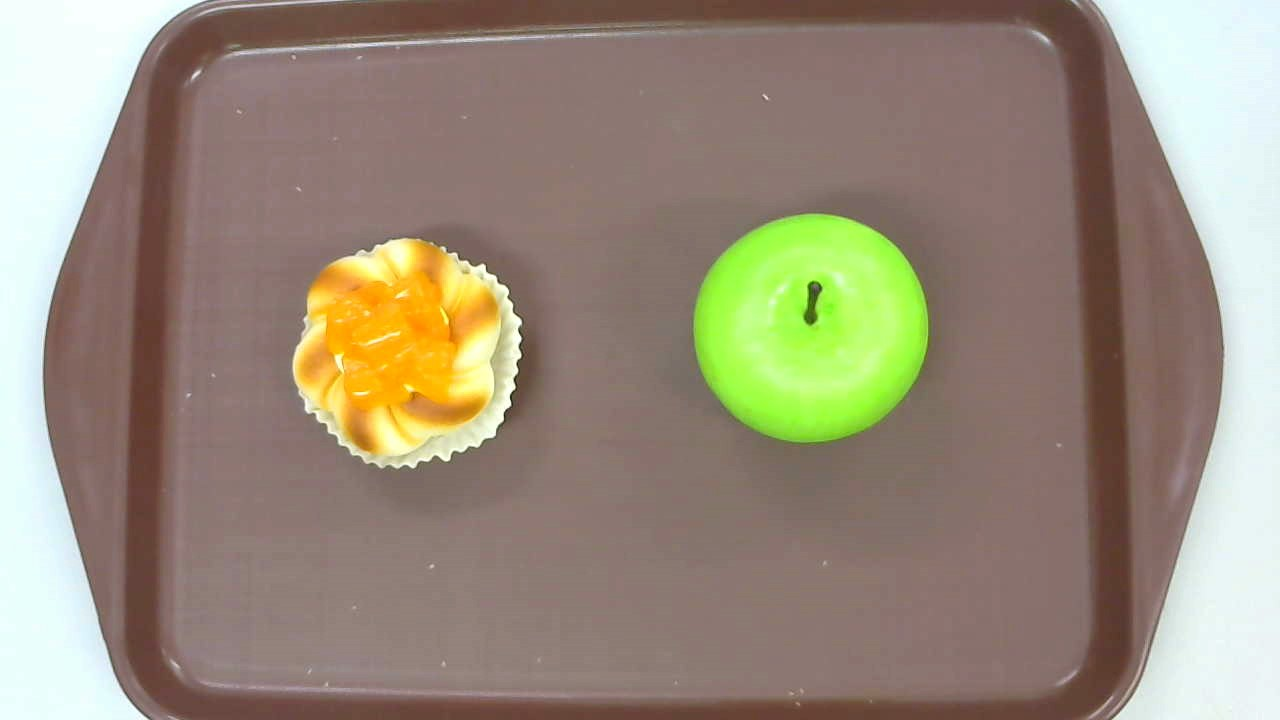green apple: (691, 212, 927, 444)
mango tart: (291, 236, 524, 471)
